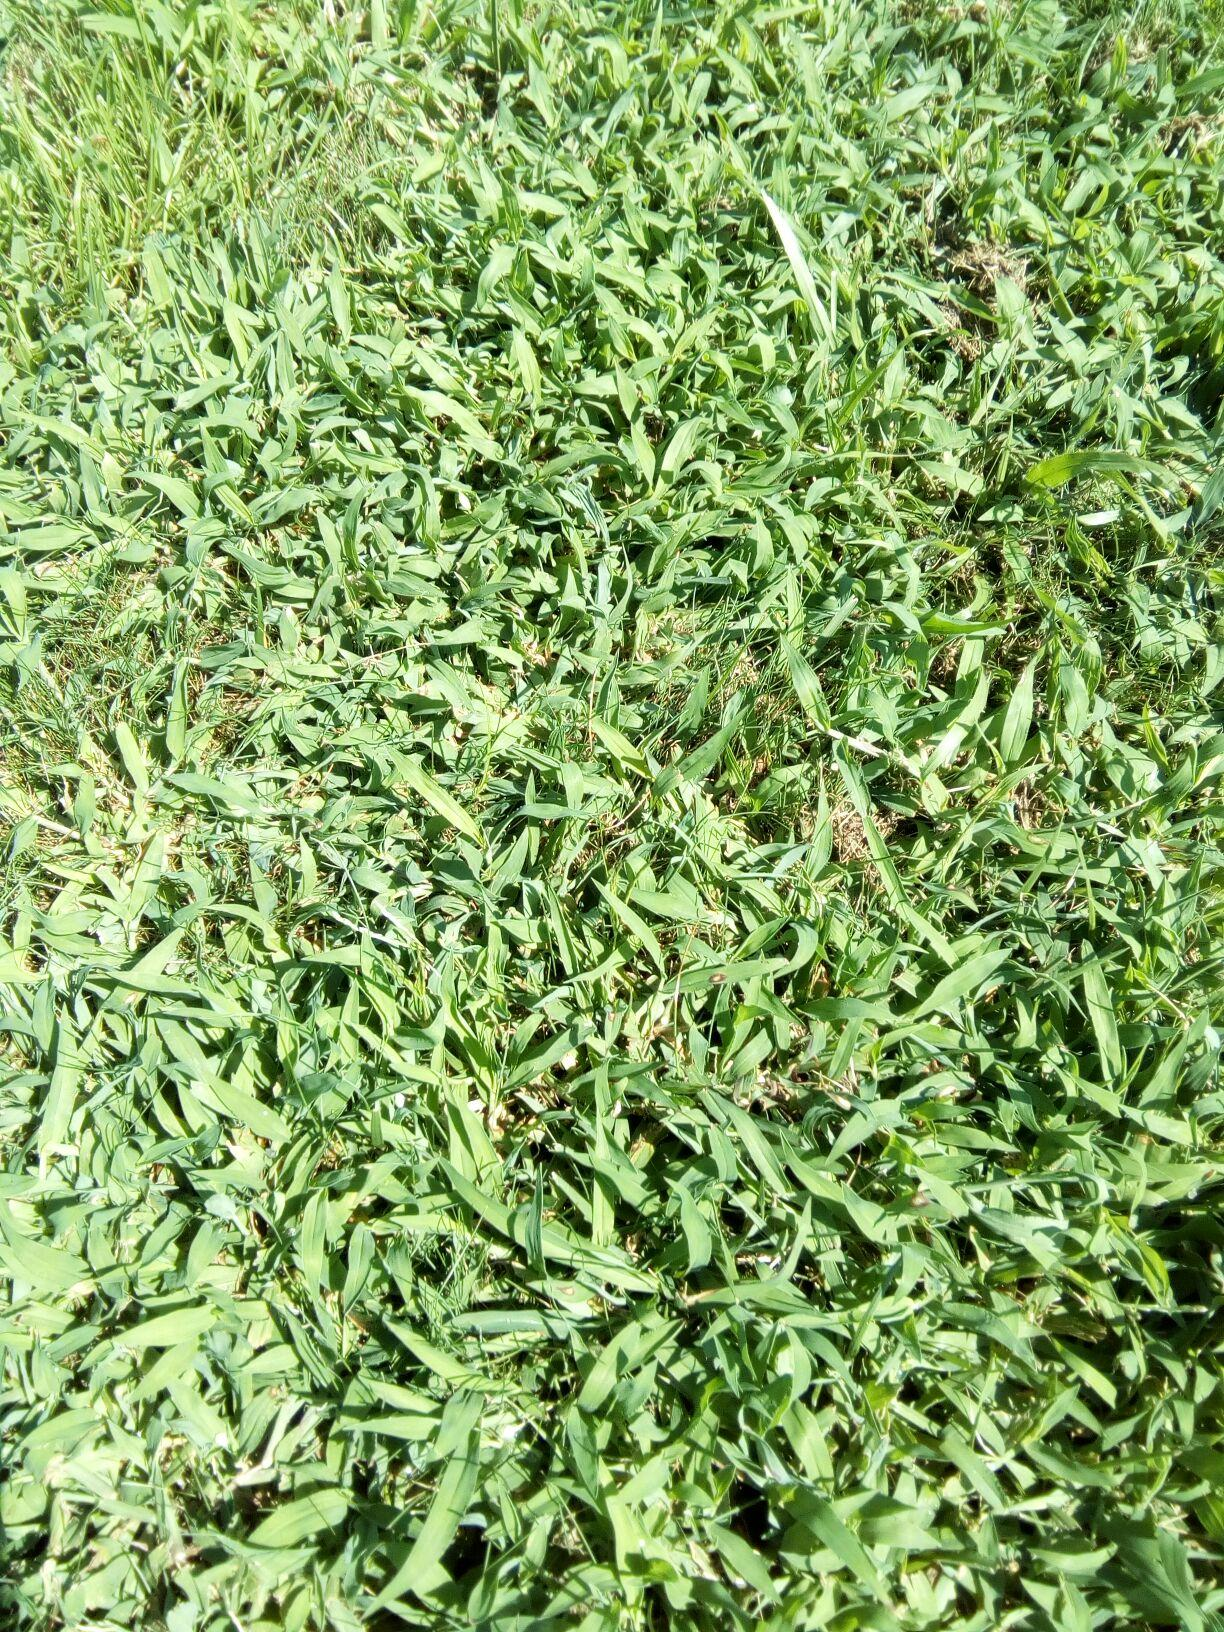crabgrass: (84, 256, 1191, 1632)
